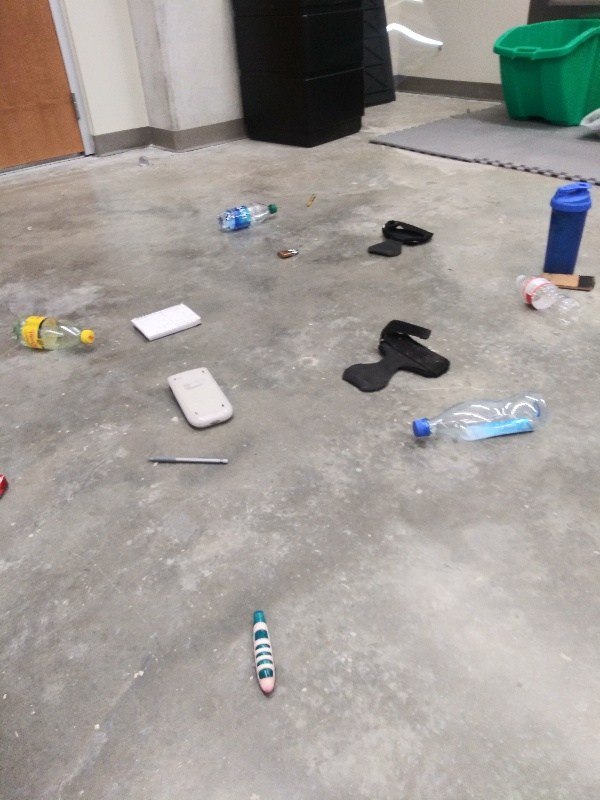bottle: (407, 392, 551, 447), (512, 269, 583, 330), (6, 312, 100, 354), (214, 200, 282, 234)
